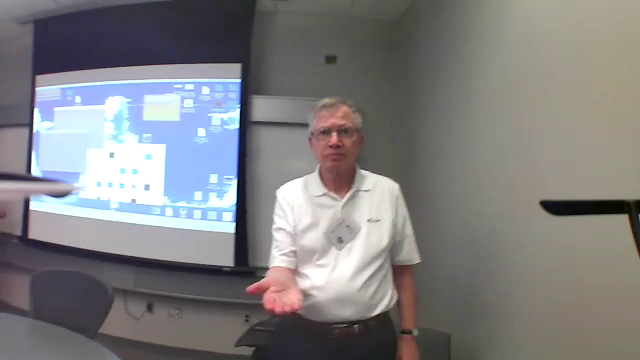land: (236, 265, 315, 326)
